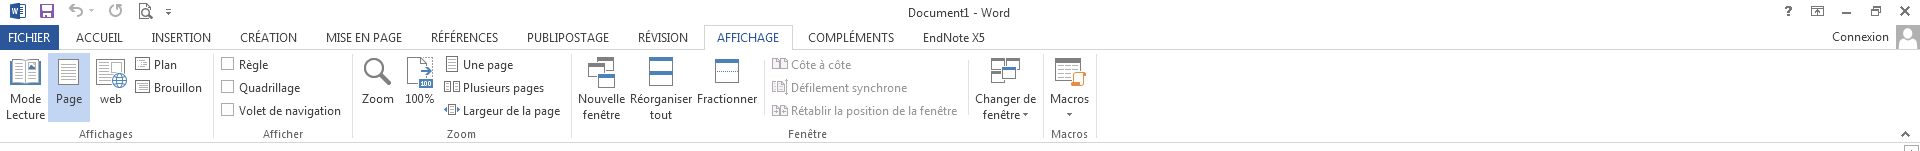texte: (1833, 25, 1920, 49), (631, 82, 692, 113), (75, 117, 132, 149), (699, 82, 757, 113), (310, 22, 369, 52), (444, 104, 560, 118), (909, 0, 969, 26), (579, 82, 624, 113), (260, 118, 302, 149), (771, 49, 816, 79), (10, 2, 83, 18), (789, 118, 827, 149), (447, 49, 482, 79), (809, 29, 894, 42), (785, 79, 849, 95), (584, 59, 615, 92), (407, 56, 433, 88), (432, 29, 498, 42), (364, 58, 391, 85), (649, 56, 673, 86), (1898, 21, 1920, 53), (528, 33, 609, 42), (241, 29, 296, 42), (240, 83, 300, 95), (976, 95, 1036, 106), (893, 106, 958, 115), (715, 59, 740, 83), (853, 83, 907, 95), (287, 107, 340, 118), (639, 29, 687, 42), (135, 56, 176, 70), (718, 33, 779, 42), (924, 33, 984, 42), (140, 2, 171, 18), (152, 33, 211, 42), (902, 22, 920, 52), (792, 106, 842, 115), (238, 56, 268, 72), (847, 107, 888, 118), (1811, 0, 1828, 25), (991, 68, 1016, 83), (76, 33, 122, 42), (975, 22, 988, 52), (156, 83, 201, 92), (464, 83, 509, 92), (983, 110, 1029, 119), (991, 58, 1020, 70), (1900, 131, 1919, 151), (9, 33, 48, 42), (1051, 95, 1089, 103), (7, 110, 45, 119), (583, 110, 620, 119), (58, 95, 82, 106), (239, 106, 266, 115), (362, 95, 393, 103), (1052, 130, 1087, 137), (11, 95, 40, 103), (489, 63, 513, 72), (598, 56, 613, 71), (375, 33, 402, 42), (517, 86, 544, 95), (407, 95, 433, 103), (984, 9, 1009, 17), (447, 130, 475, 137), (135, 80, 149, 93), (1071, 72, 1086, 86), (829, 60, 851, 69), (650, 110, 672, 119), (109, 4, 122, 17), (220, 56, 234, 70), (220, 80, 234, 93), (100, 95, 121, 103), (771, 106, 789, 115), (220, 103, 234, 115), (444, 81, 458, 92), (771, 81, 784, 92), (969, 97, 973, 124), (269, 106, 282, 115), (1900, 6, 1910, 16), (820, 60, 823, 69), (1842, 12, 1851, 14), (1067, 113, 1071, 115), (431, 56, 433, 59), (640, 95, 642, 96), (973, 14, 977, 14)
